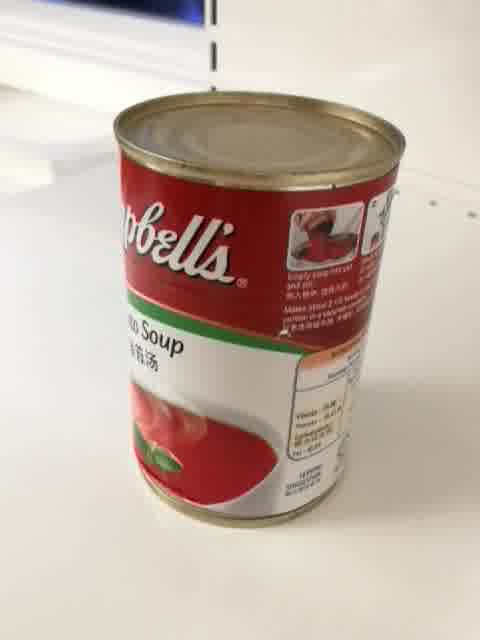tomatosoup: (110, 89, 409, 533)
